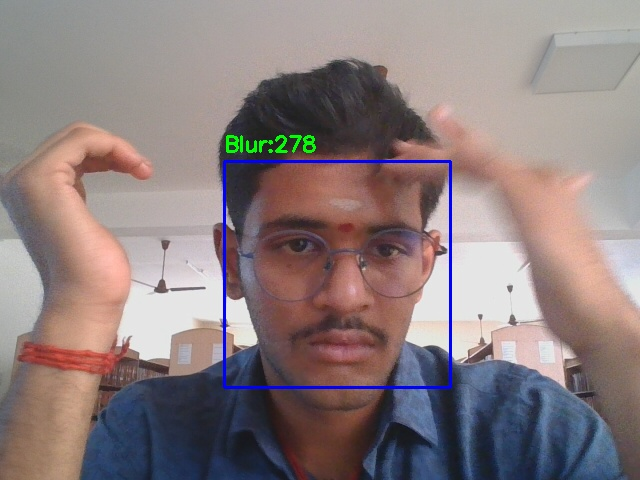real: (224, 161, 450, 387)
